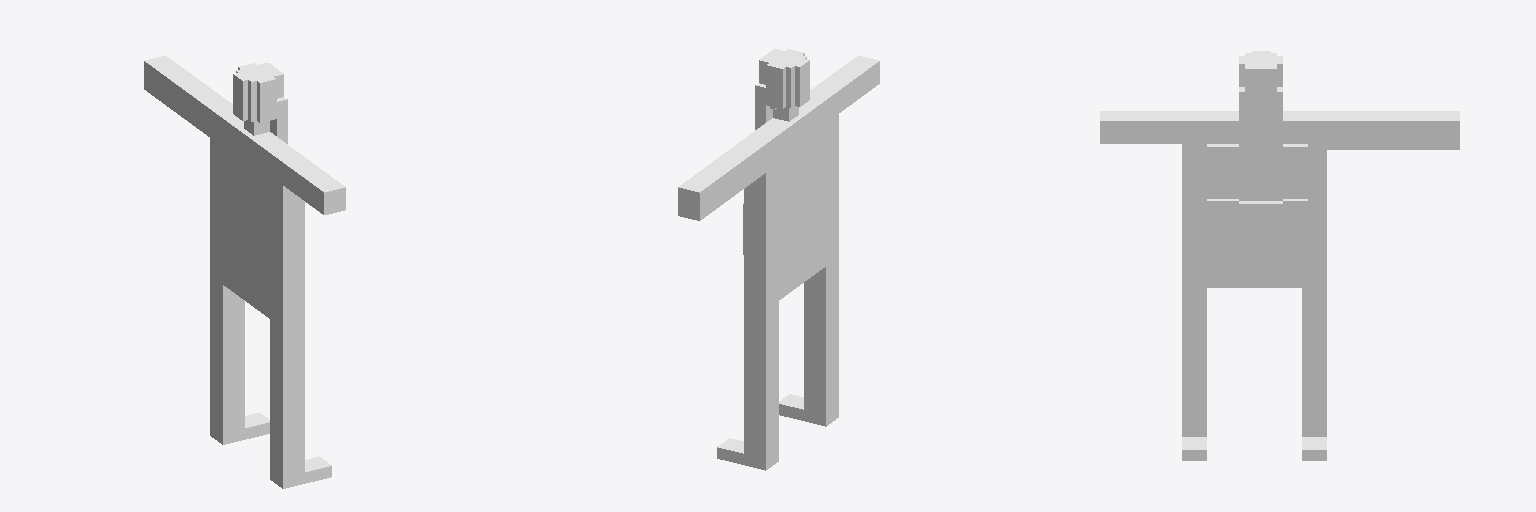
Rendered from char_astronomo.obj.
3 views of the same model, side by side, from view 1: azimuth 30°, elevation 25°; view 2: azimuth 150°, elevation 25°; view 3: azimuth 270°, elevation 25° (orthographic).
Parts seen in each view (by area): view 1: char_astronomo; view 2: char_astronomo; view 3: char_astronomo.
Boxes of the visible parts, box(x1,y1,x2,y2) form: char_astronomo: box(144, 55, 345, 488); char_astronomo: box(678, 49, 879, 470); char_astronomo: box(1100, 51, 1459, 460).
Bounding box in the file's own units: 10 × 67 × 57.